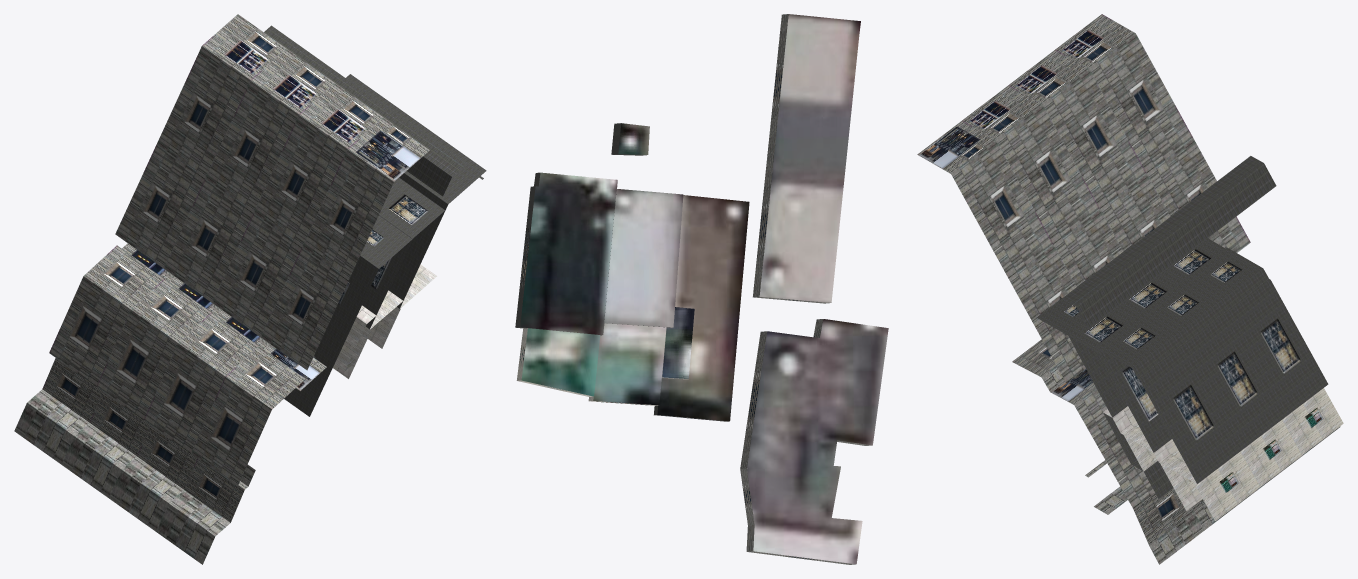
3 views of the same model, side by side, from view 1: azimuth 30°, elevation 25°; view 2: azimuth 150°, elevation 25°; view 3: azimuth 270°, elevation 25° (orthographic). The views are drawn at different scales.
Size of the model in its own units: 25.59 by 33.04 by 24.15.
31 materials, 31 textured.
